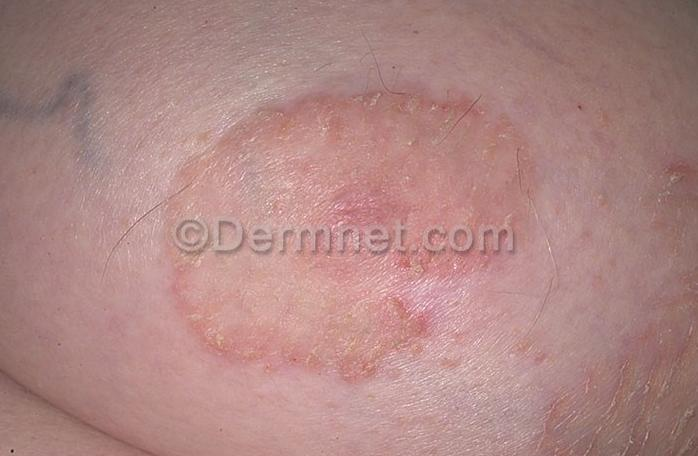eritema 1: (149, 81, 543, 388)
xerosis 1: (542, 323, 698, 456)
